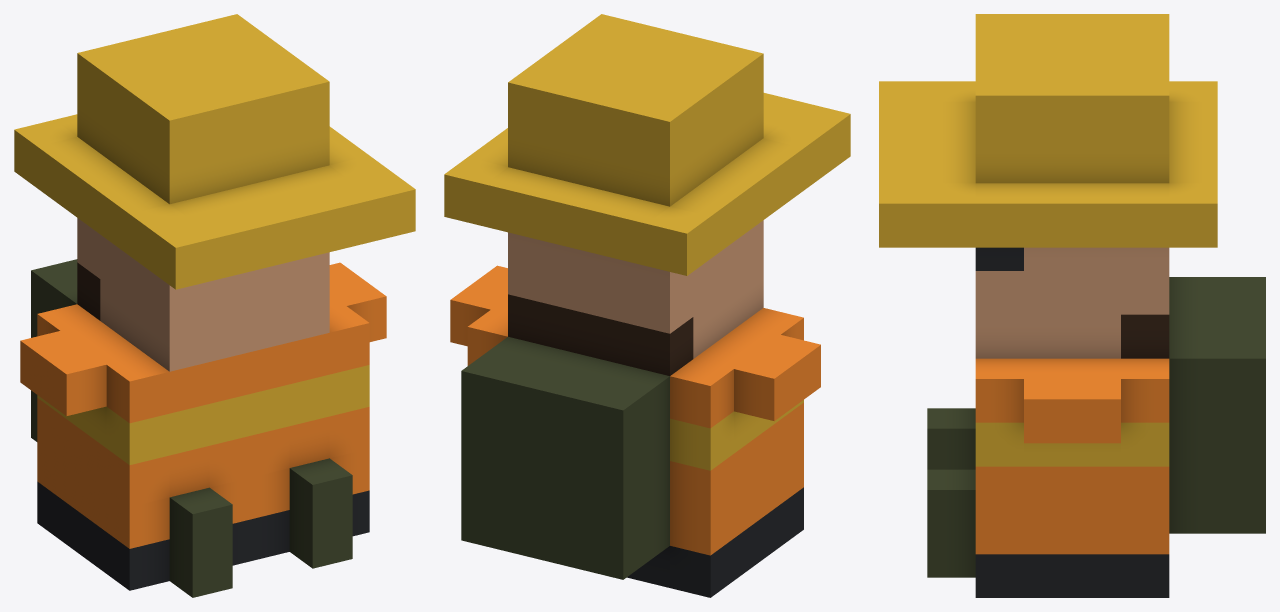
The model's file is cm_engineer_t_5.glb.
3 renders of one model, left to right at view 1: azimuth 30°, elevation 25°; view 2: azimuth 150°, elevation 25°; view 3: azimuth 270°, elevation 25°, orthographic. The views are drawn at different scales.
Visible parts, largest first — view 1: cm_engineer_t_5_body; view 2: cm_engineer_t_5_body; view 3: cm_engineer_t_5_body.
Boxes of the visible parts, x1,y1,x2,y2 form: cm_engineer_t_5_body: (14,14,415,597); cm_engineer_t_5_body: (444,14,850,597); cm_engineer_t_5_body: (879,14,1265,597).
Bounding box in the file's own units: 0.5 × 0.6875 × 0.5.
Materials: 1 (1 with a texture image).
